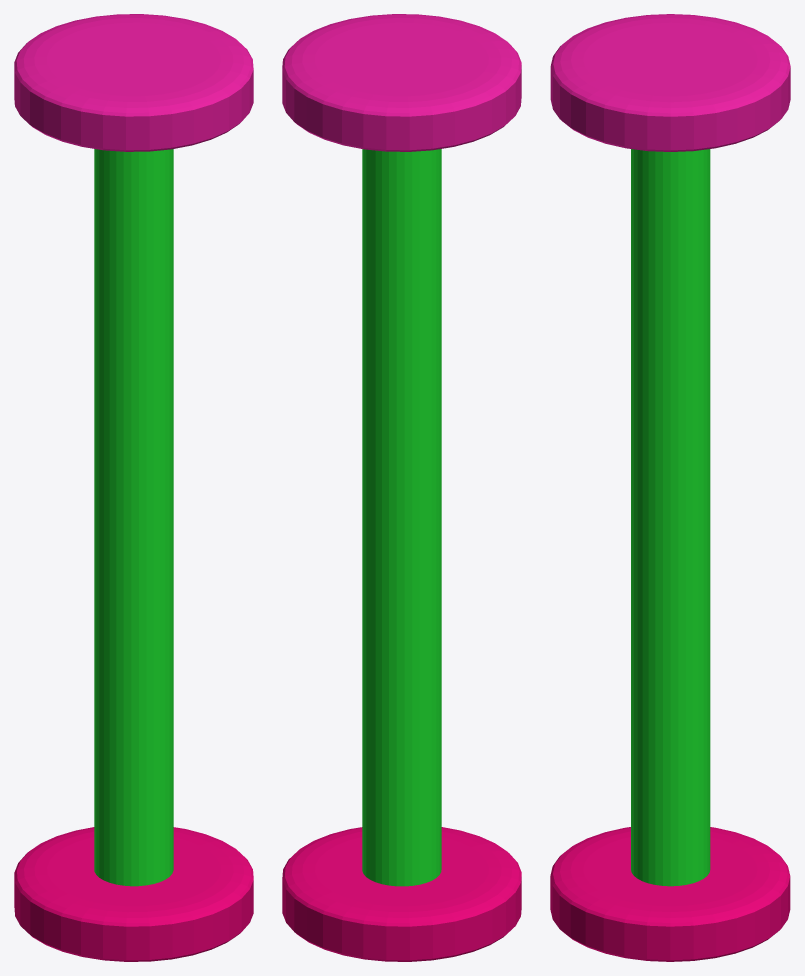
File: direk.fbx
3 views of the same model, side by side, from view 1: azimuth 30°, elevation 25°; view 2: azimuth 150°, elevation 25°; view 3: azimuth 270°, elevation 25° (orthographic).
Parts seen in each view (by area): view 1: Cylinder.001, Cylinder.002; view 2: Cylinder.001, Cylinder.002; view 3: Cylinder.001, Cylinder.002.
Part boxes in pixels (x1=…): Cylinder.001: x1=14, y1=14, x2=253, y2=886; Cylinder.002: x1=14, y1=827, x2=253, y2=961; Cylinder.001: x1=282, y1=14, x2=521, y2=886; Cylinder.002: x1=282, y1=827, x2=521, y2=961; Cylinder.001: x1=550, y1=14, x2=790, y2=886; Cylinder.002: x1=550, y1=827, x2=790, y2=961.
Size of the model in its own units: 0.2744 by 1.08 by 0.2747.
